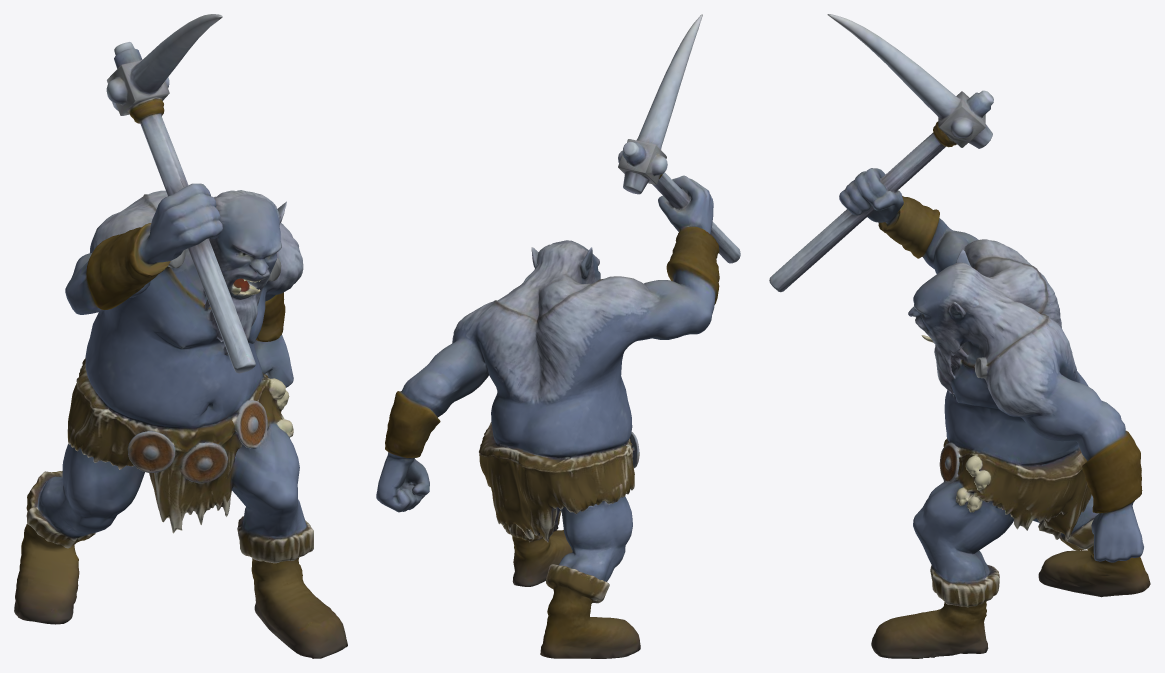
Rendered from MZ4250 - Ice Spire Ogre.glb.
3 views of the same model, side by side, from view 1: azimuth 30°, elevation 25°; view 2: azimuth 150°, elevation 25°; view 3: azimuth 270°, elevation 25° (orthographic). The views are drawn at different scales.
Parts seen in each view (by area): view 1: Ice Spire Ogre_low.001; view 2: Ice Spire Ogre_low.001; view 3: Ice Spire Ogre_low.001.
Part boxes in pixels (bbox=[...]): Ice Spire Ogre_low.001: bbox=[14, 14, 347, 658]; Ice Spire Ogre_low.001: bbox=[376, 14, 740, 658]; Ice Spire Ogre_low.001: bbox=[769, 14, 1150, 658].
Bounding box in the file's own units: 3.21 × 6.71 × 4.
Materials: 1 (1 with a texture image).
